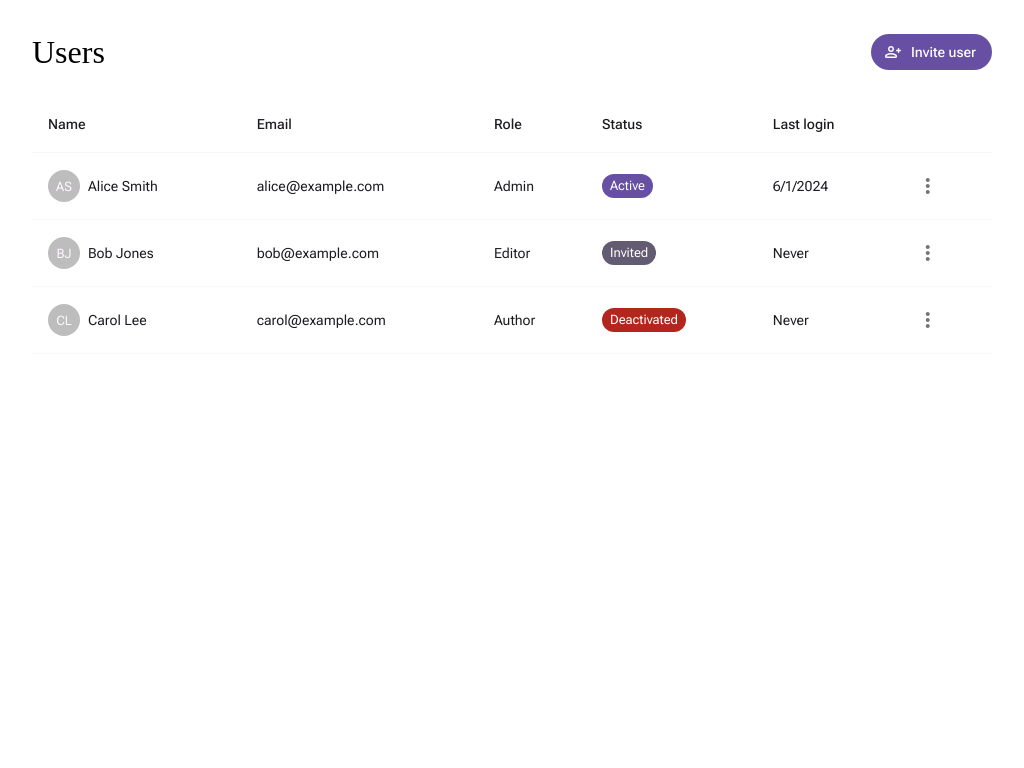
Test case: UsersPage › opens deactivate confirmation when deactivate menu item is clicked
The image size is (1024, 768).
Expected: the text "Alice Smith" is shown, [88,178,158,194]
Click the button named "actions for": [928, 186] box [911,169,945,203]
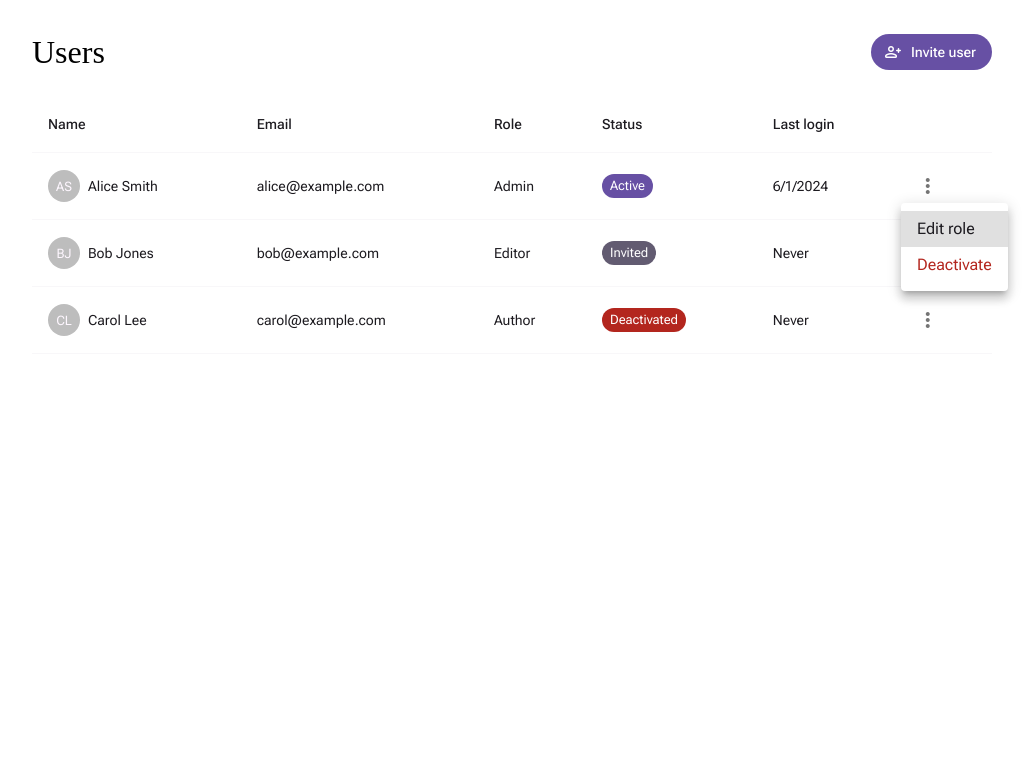
Click the menu item "Deactivate": [954, 264] box [917,255,992,274]
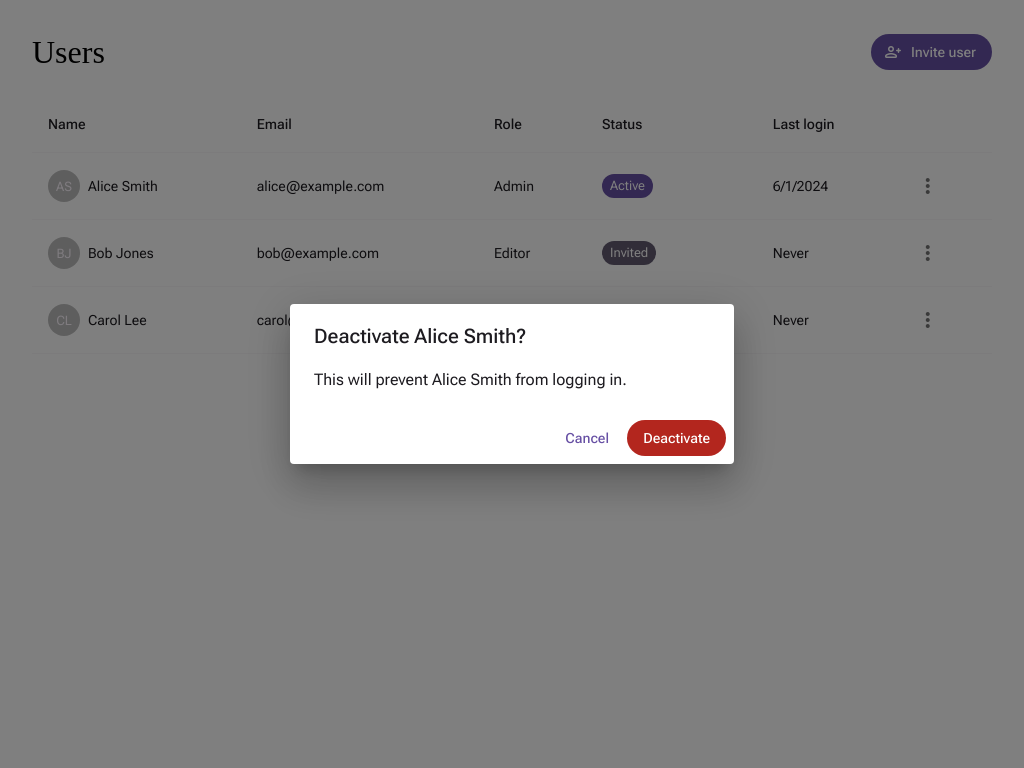
Result: the dialog is shown at [290,304,734,464]
Result: the button "Deactivate" is shown at [627,420,726,456]
